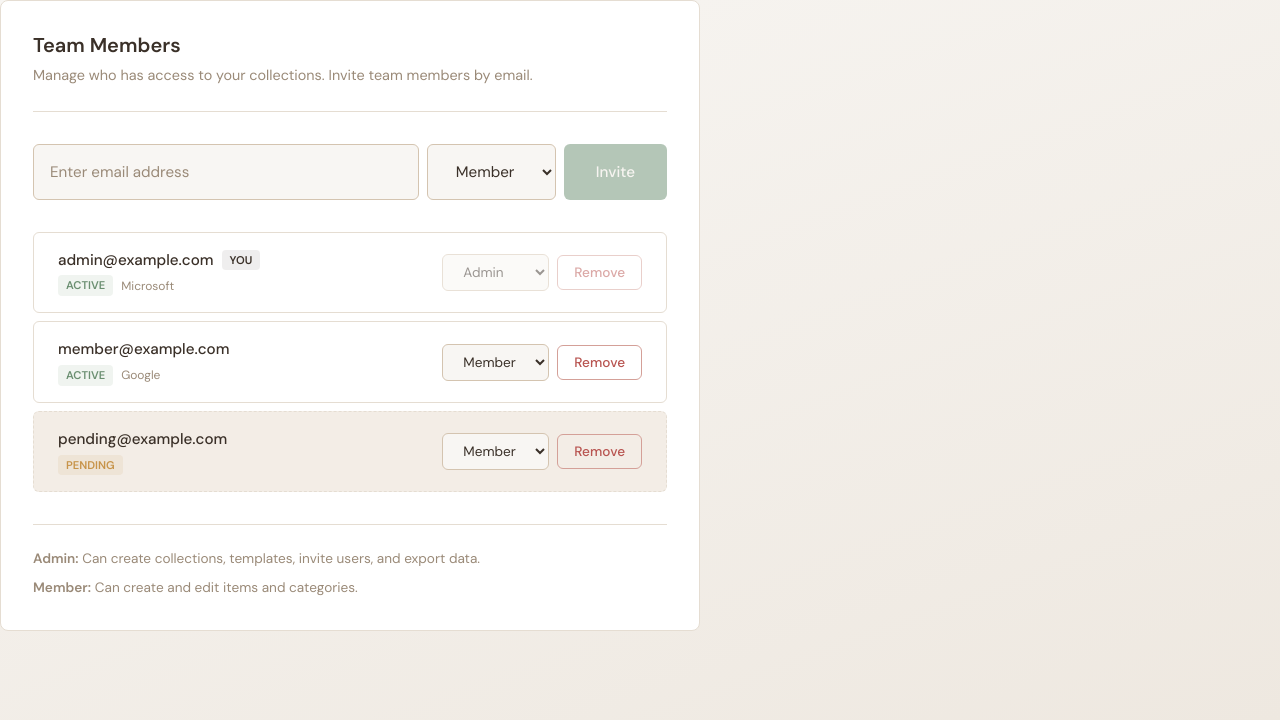
Scenario: UserManagement › remove user › should show error when remove fails
Expected: the text "member@example.com" is shown, [58,339,230,359]
Step 1. Click the button "Remove" in the row of "member@example.com" → (600, 362), box [557,344,642,380]
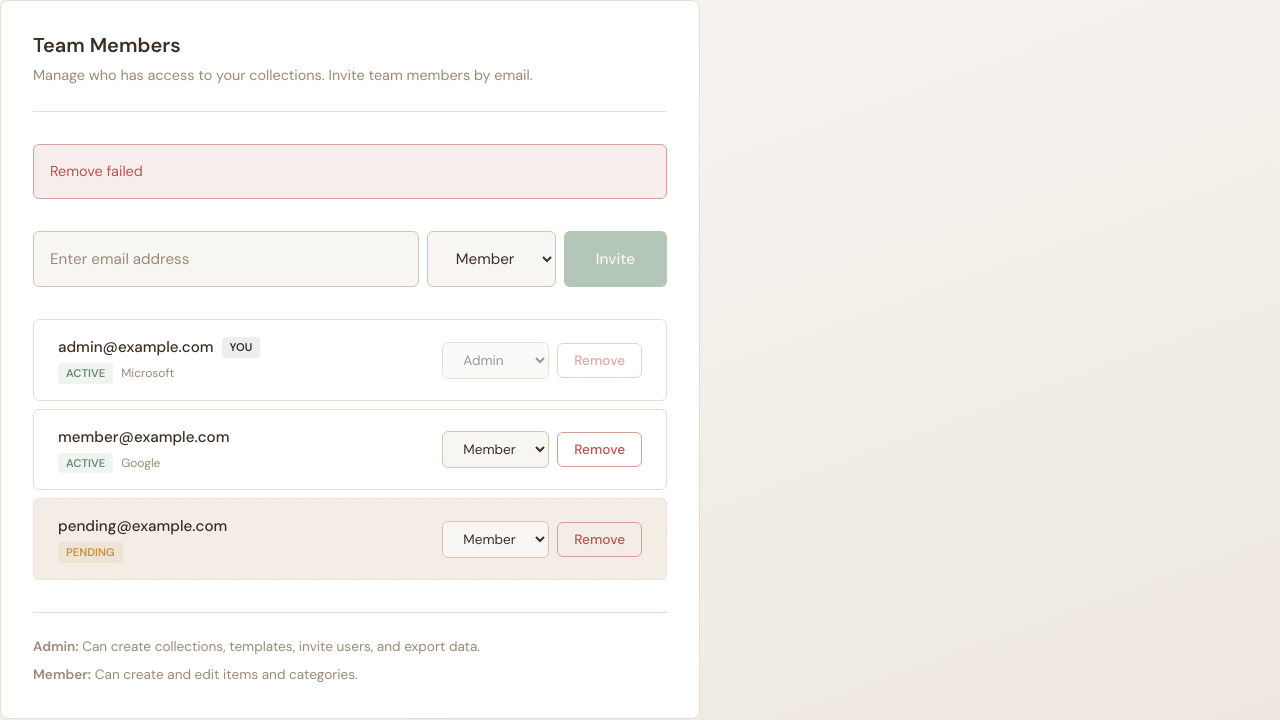
Now the text "Remove failed" is shown, box [33,144,667,199]
